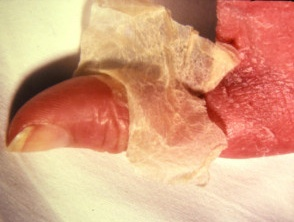SJS-TEN: (59, 0, 294, 192)
